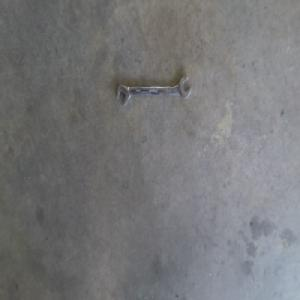Wrench: (115, 75, 193, 107)
